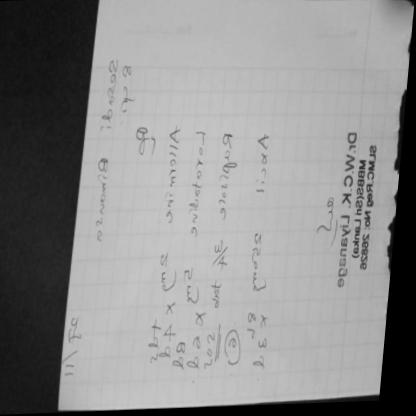Handwritten text: (90, 50, 127, 257), (155, 101, 196, 230), (183, 127, 218, 244), (212, 113, 244, 224), (244, 126, 284, 207)
